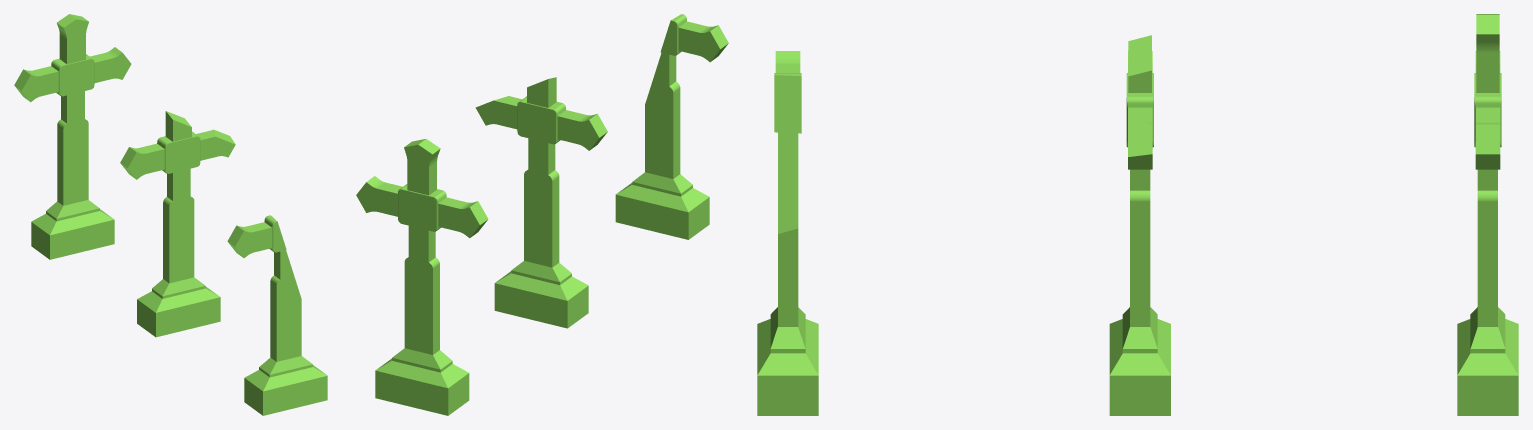
File: Total Assets2.fbx_Headstone02.fbx
3 views of the same model, side by side, from view 1: azimuth 30°, elevation 25°; view 2: azimuth 150°, elevation 25°; view 3: azimuth 270°, elevation 25° (orthographic). The views are drawn at different scales.
Parts seen in each view (by area): view 1: Headstones_2_001, Headstones_2, Headstones_2_002; view 2: Headstones_2_001, Headstones_2, Headstones_2_002; view 3: Headstones_2_001, Headstones_2, Headstones_2_002.
Boxes of the visible parts, left/top/right/bottom form: Headstones_2_001: left=14, top=14, right=131, bottom=259; Headstones_2: left=120, top=111, right=235, bottom=337; Headstones_2_002: left=227, top=215, right=327, bottom=415; Headstones_2_001: left=356, top=139, right=488, bottom=415; Headstones_2: left=475, top=77, right=607, bottom=328; Headstones_2_002: left=615, top=14, right=728, bottom=239; Headstones_2_001: left=1457, top=14, right=1518, bottom=415; Headstones_2: left=1109, top=35, right=1170, bottom=415; Headstones_2_002: left=757, top=51, right=818, bottom=415.
Size of the model in its own units: 119 by 236 by 435.
